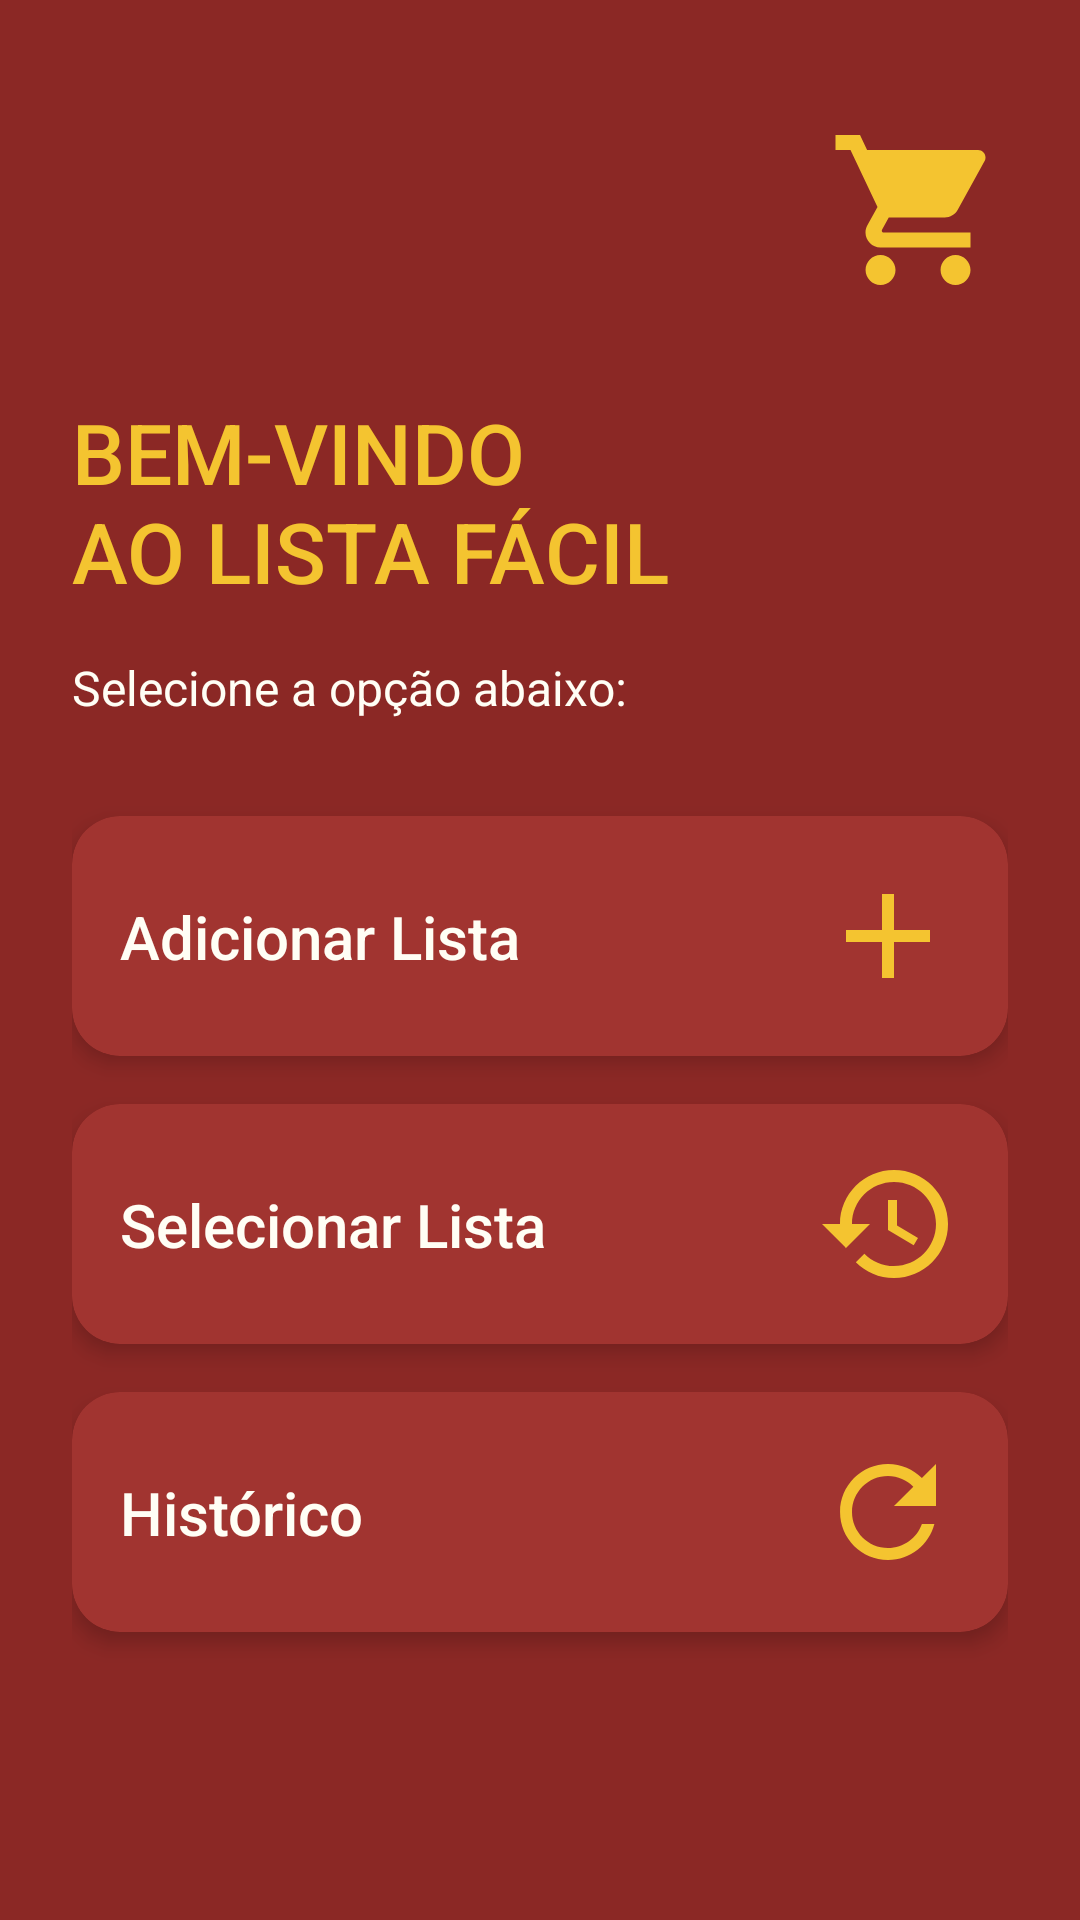

Named icons in this screenshot (1080 × 1920) and their centers, (x,y):
Adicionar Lista: (888,936)
cart: (910,210)
